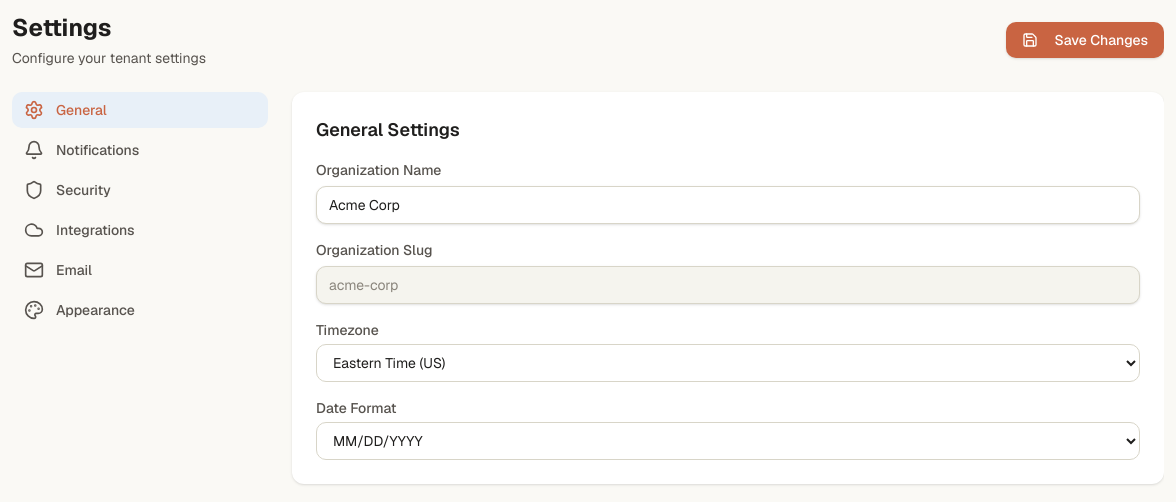
Scenario: SettingsPage › Navigation Sidebar › switches to Security section
Click the button "Security" at (140, 190), box [12, 172, 268, 208]
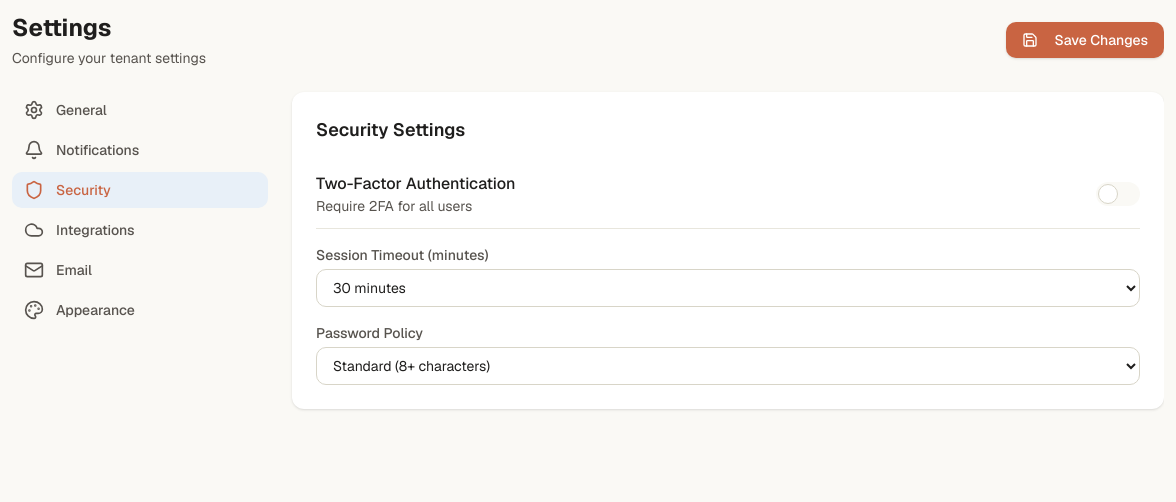
Expected: the heading "Security Settings" is shown, [316, 118, 465, 141]
